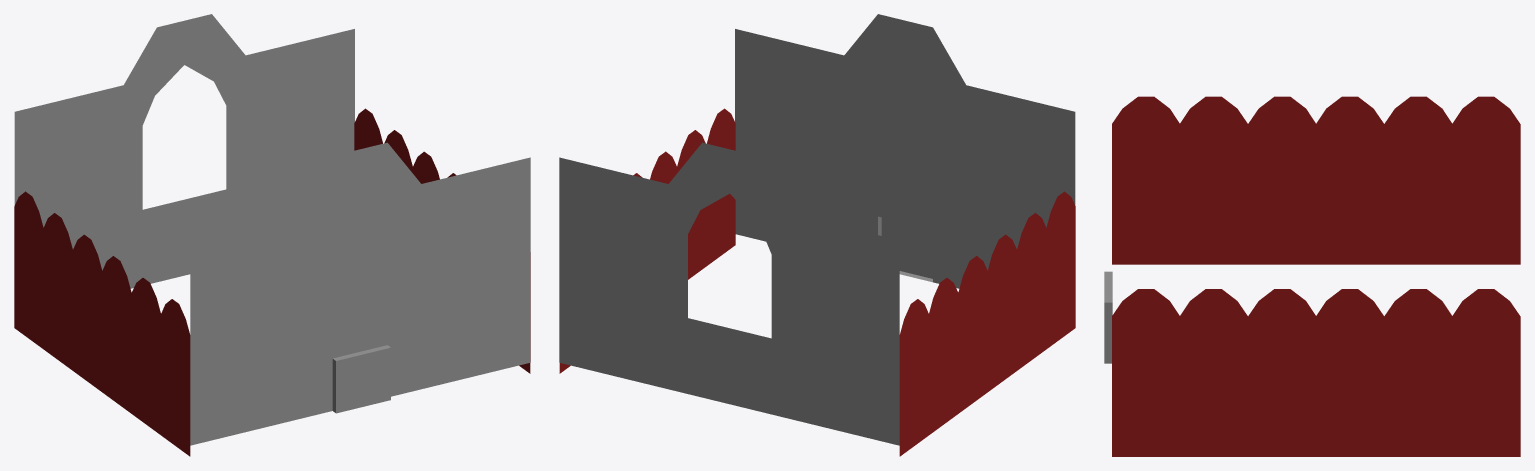
File: wall.FBX
The picture shows the model from 3 angles, left to right: view 1: azimuth 30°, elevation 25°; view 2: azimuth 150°, elevation 25°; view 3: azimuth 270°, elevation 25°; orthographic projection. The views are drawn at different scales.
Parts seen in each view (by area): view 1: Wall; view 2: Wall; view 3: Wall.
Boxes of the visible parts, x1,y1,x2,y2 form: Wall: (14,14,530,456); Wall: (559,14,1075,456); Wall: (1104,96,1520,456).
Size of the model in its own units: 5335 by 3982 by 4868.
